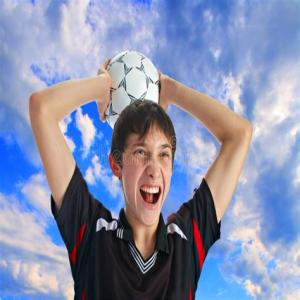Football: (105, 50, 159, 132)
